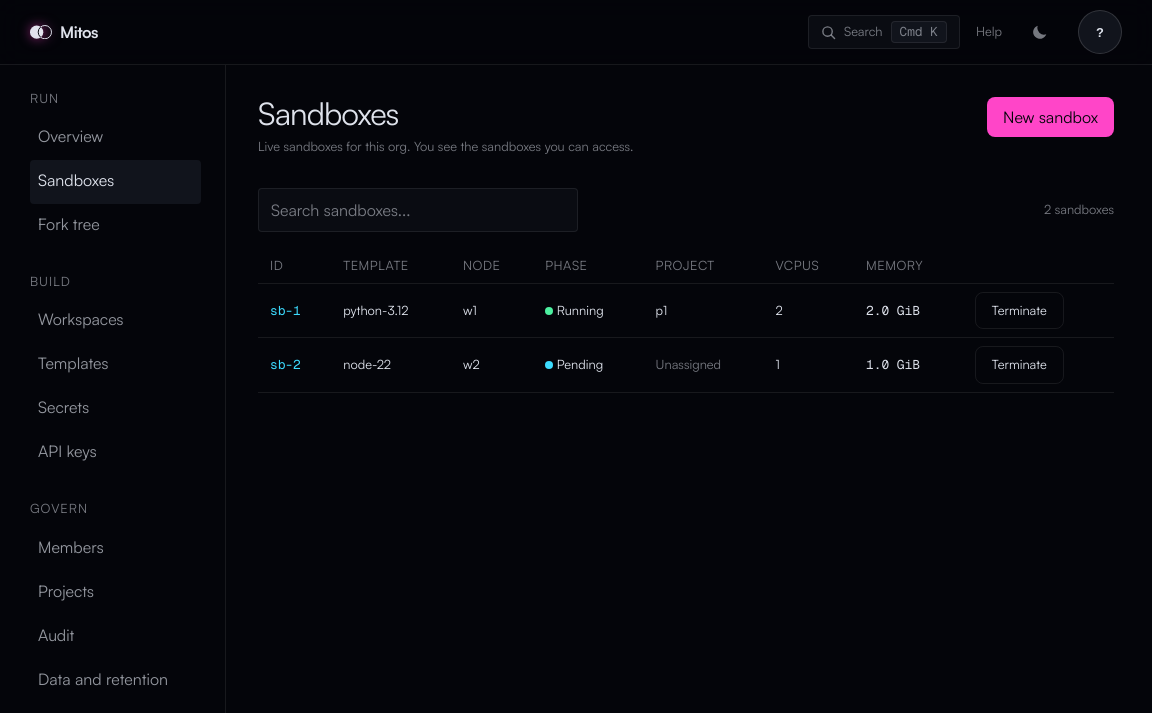
Test case: SandboxList › the New sandbox primary action opens the create modal
Expected: the table named "sandboxes" is shown, [258,248,1114,393]
Click the button "New sandbox".
click(1050, 117)  # box [987,97,1114,137]
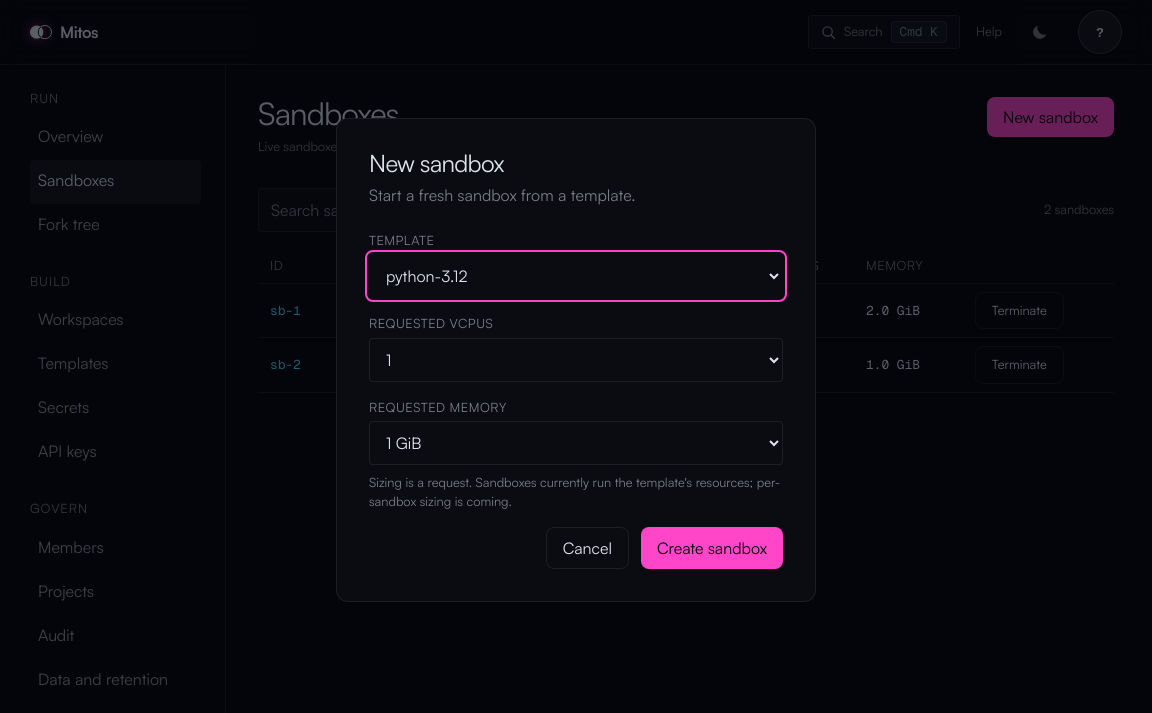
Expected: the dialog "New sandbox" is shown, [336,118,816,602]
